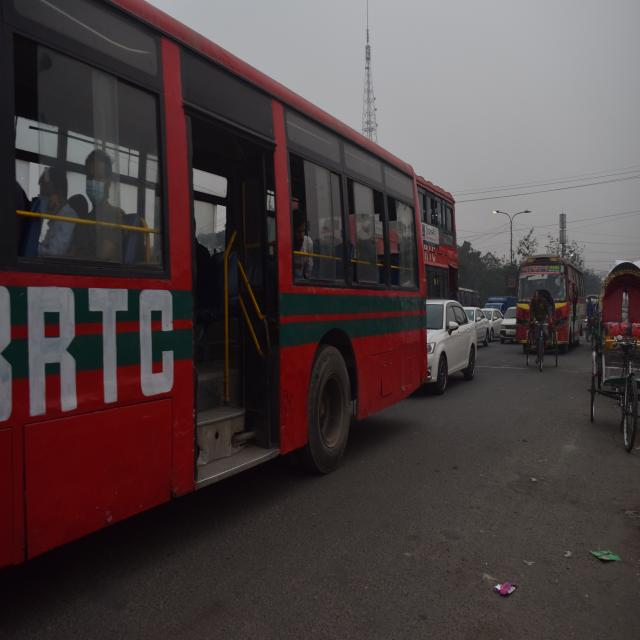bus: (0, 0, 430, 568), (512, 252, 575, 348), (418, 177, 467, 292)
car: (425, 294, 482, 390), (494, 303, 520, 343), (476, 298, 496, 342)
